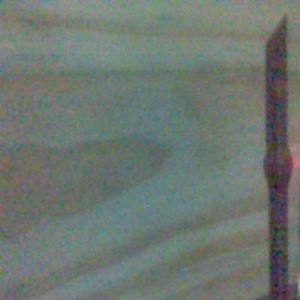cutter: (260, 13, 295, 300)
